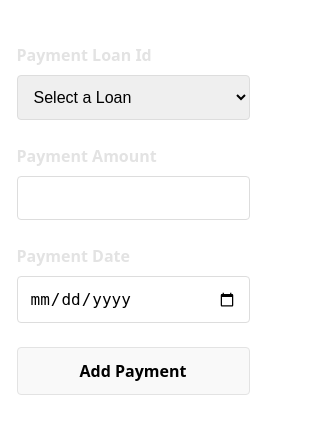
Test case: AddNewPayment › shows error message on API error
The width and height of the screenshot is (320, 445).
Select "Tom's Loan - 10000 (5%)" in the dropdown labelled "Payment Loan Id" at (133, 98), box [16,75,250,120]
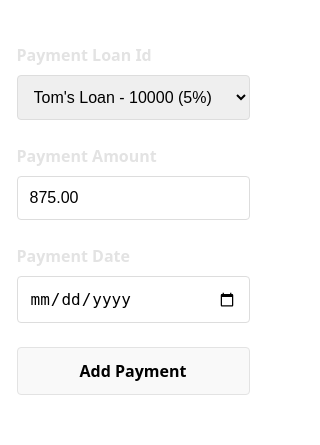
Type "2025-03-10" into the date field labelled "Payment Date" at (133, 300), box [16,276,250,323]
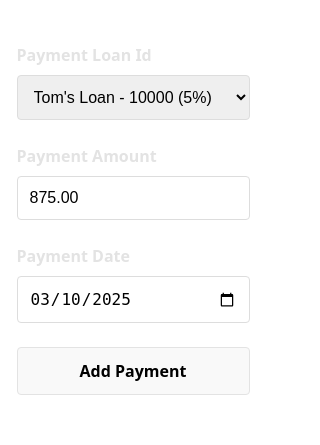
Click the button "Add Payment" at (133, 371), box [16,347,250,395]
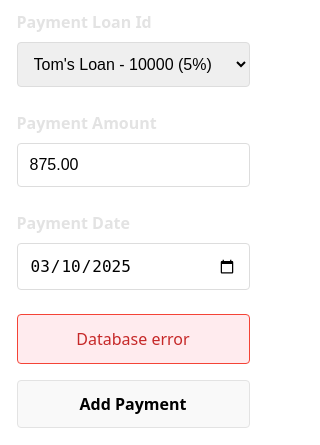
Check: the text "Database error" is shown, box [16,314,250,364]
